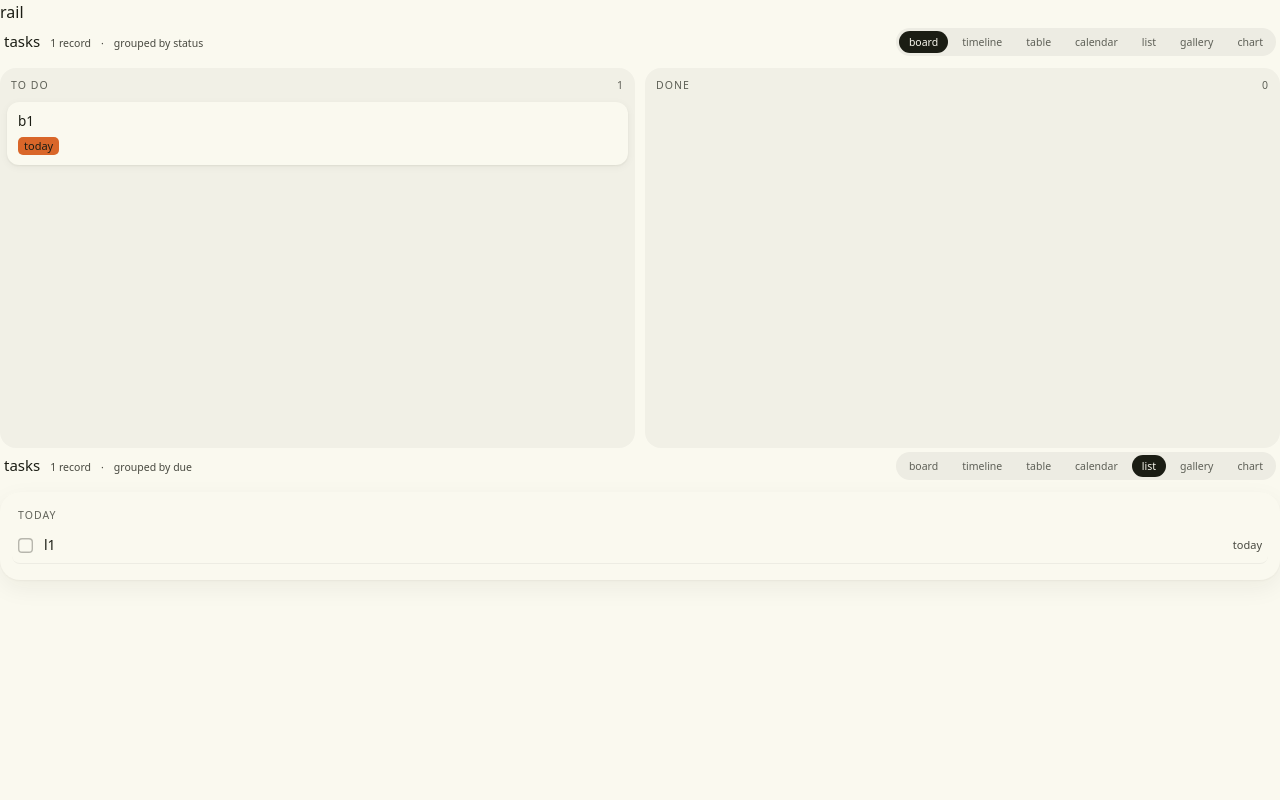
one record peek per page › selecting in the list swaps out the board’s peek
The image size is (1280, 800).
Click the element "b1". click: (318, 133)
box: x1=7 y1=102 x2=628 y2=165
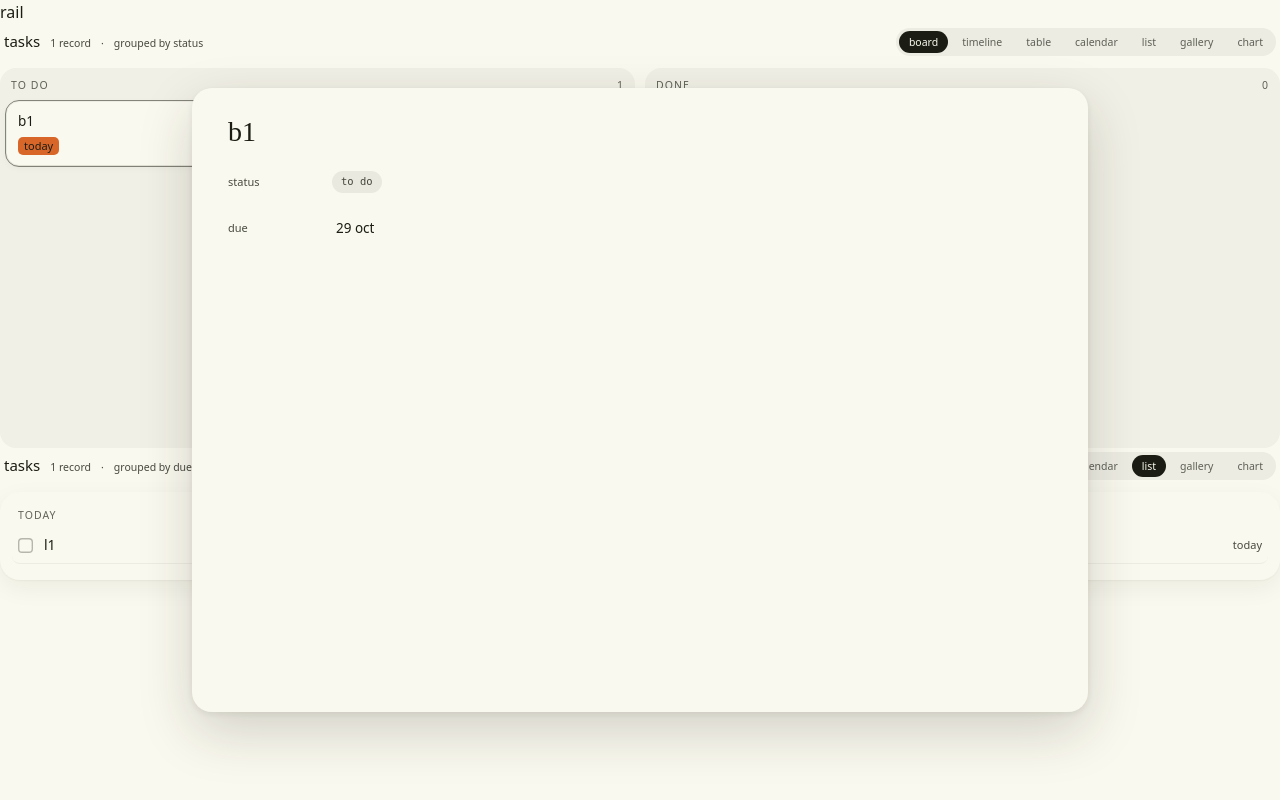
Click the button "l1". click: (50, 544)
box: x1=44 y1=535 x2=1187 y2=555
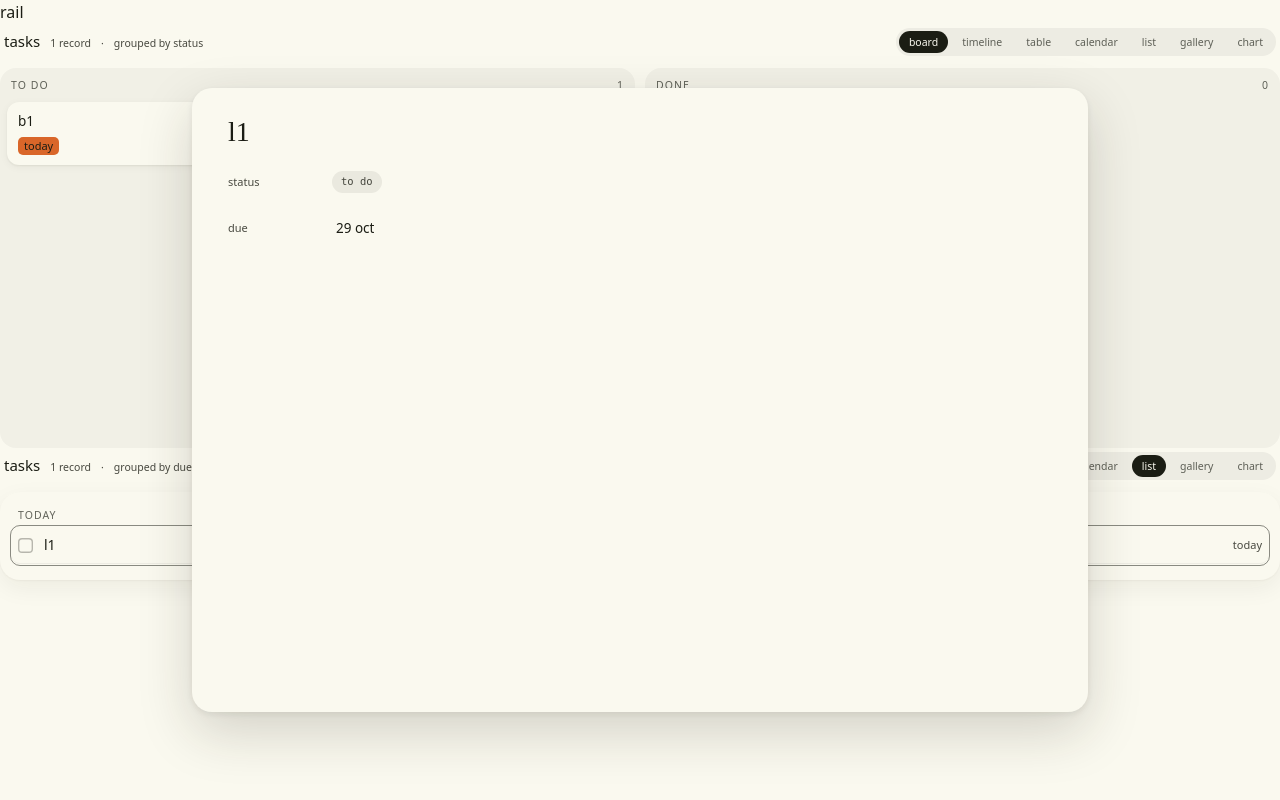
Now the element showing "l1 status to do due 29 oct" is shown, box x1=192 y1=88 x2=1088 y2=712
